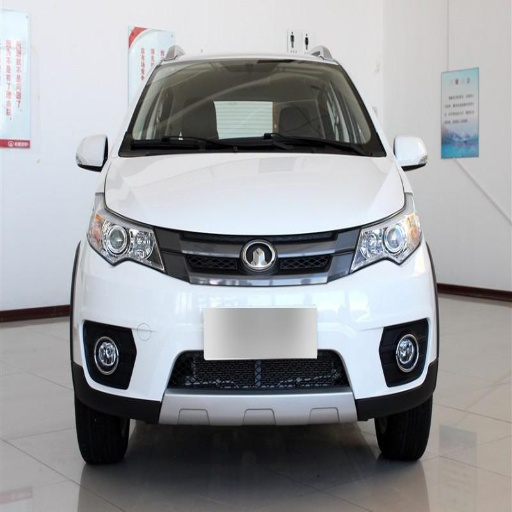front_bumper: (71, 226, 436, 425)
front_right_light: (87, 206, 166, 271)
hood: (105, 153, 404, 234)
